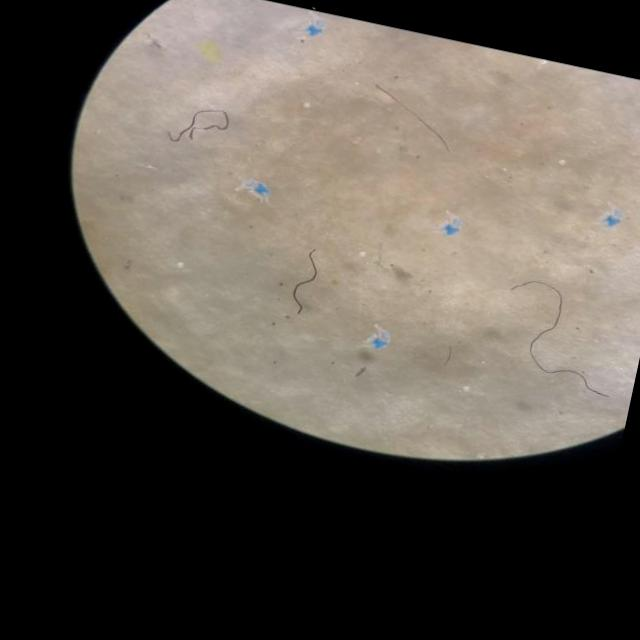fiber: (511, 280, 607, 395), (373, 84, 448, 150), (167, 109, 227, 142), (292, 249, 315, 314)
film: (243, 179, 269, 193), (441, 215, 460, 234), (369, 330, 389, 348), (304, 22, 322, 36)
fragment: (198, 42, 220, 61)
pellet: (462, 385, 469, 392), (176, 262, 182, 268), (559, 159, 565, 164), (303, 102, 309, 107), (359, 252, 364, 257)
